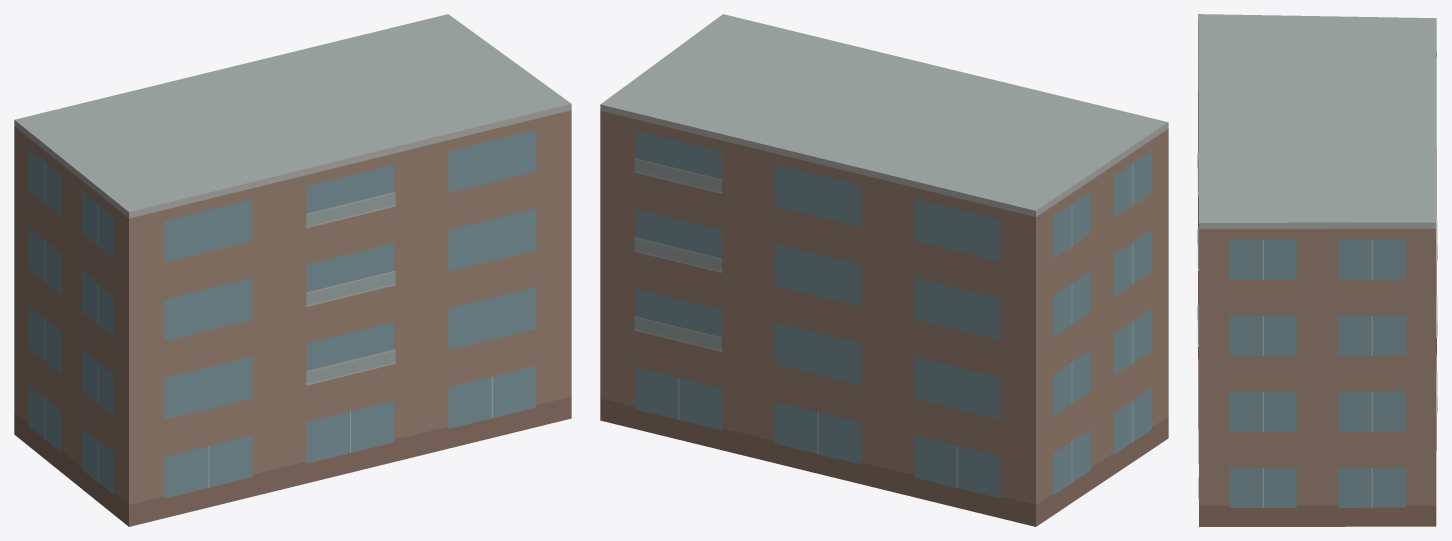
File: survey-upis-32516575.glb
The picture shows the model from 3 angles, left to right: view 1: azimuth 30°, elevation 25°; view 2: azimuth 150°, elevation 25°; view 3: azimuth 270°, elevation 25°; orthographic projection. The views are drawn at different scales.
Parts seen in each view (by area): view 1: survey-upis-32516575.tmp; view 2: survey-upis-32516575.tmp; view 3: survey-upis-32516575.tmp.
Part boxes in pixels (x1,y1,x2,y2): survey-upis-32516575.tmp: [14, 14, 571, 526]; survey-upis-32516575.tmp: [600, 14, 1168, 526]; survey-upis-32516575.tmp: [1197, 14, 1437, 526].
Bounding box in the file's own units: 17.99 × 12.2 × 8.73.
